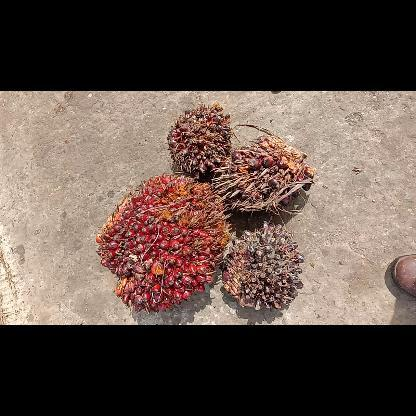TBS abnormal: (211, 133, 316, 215), (220, 219, 306, 313), (166, 100, 234, 182)
TBS masak: (94, 172, 232, 316)
